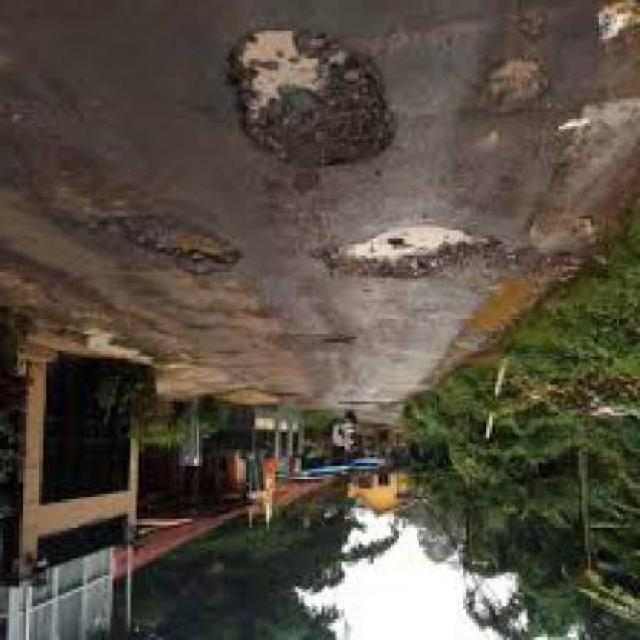pothole: (226, 28, 406, 180), (304, 222, 513, 292), (90, 208, 248, 278)
